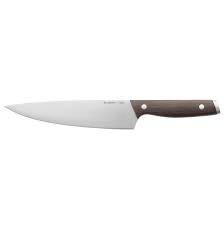knife: (3, 83, 223, 133)
